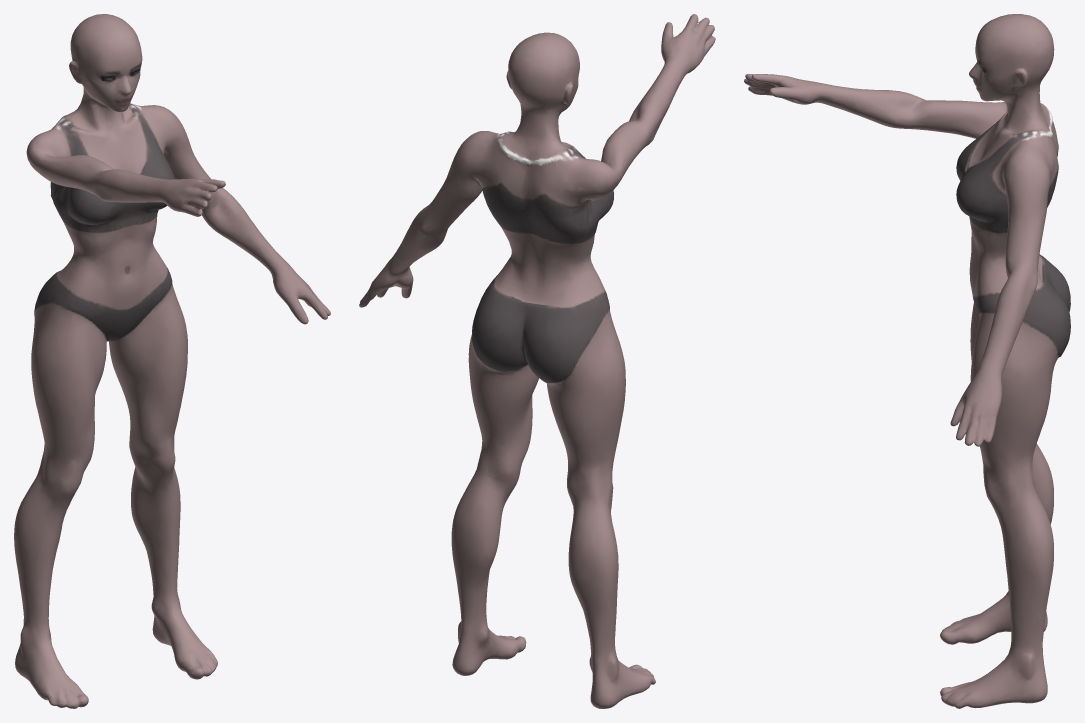
Rendered from bounded-UpperArmL-90.glb.
3 views of the same model, side by side, from view 1: azimuth 30°, elevation 25°; view 2: azimuth 150°, elevation 25°; view 3: azimuth 270°, elevation 25° (orthographic).
Visible parts, largest first — view 1: bounded-UpperArmL-90; view 2: bounded-UpperArmL-90; view 3: bounded-UpperArmL-90.
Part boxes in pixels (box(x1,y1,x2,y2)): bounded-UpperArmL-90: box(14, 14, 330, 708); bounded-UpperArmL-90: box(359, 14, 715, 708); bounded-UpperArmL-90: box(744, 14, 1070, 708).
Size of the model in its own units: 0.4619 by 1 by 0.454.
Materials: 1 (1 with a texture image).
